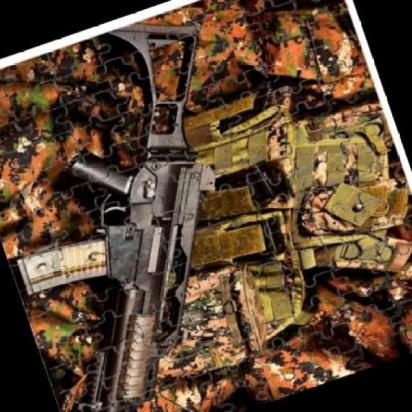Gun: (0, 4, 329, 412)
